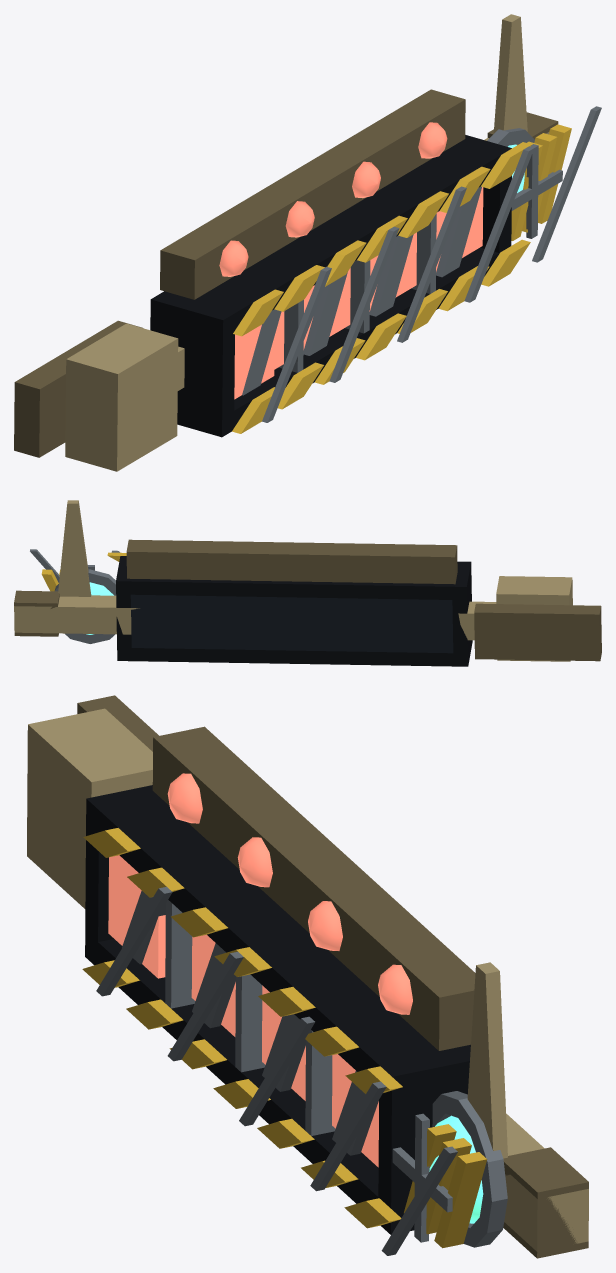
The model's file is mast.glb.
3 views of the same model, one above another, from view 1: azimuth 30°, elevation 25°; view 2: azimuth 150°, elevation 25°; view 3: azimuth 270°, elevation 25° (orthographic). The views are drawn at different scales.
Visible parts, largest first — view 1: log_mast_lampbar, log_mast_collar, log_mast_bezel_t, log_mast_bezel_l, log_mast_foot, log_mast_bezel_b, log_mast_vane, log_mast_bezel_r, log_mast_scrim_3, log_mast_scrim_4, log_mast_scrim_0, log_mast_scrim_2 (+36 smaller); view 2: log_mast_bore, log_mast_lampbar, log_mast_foot, log_mast_bezel_t, log_mast_bezel_b, log_mast_rod, log_mast_collar, log_mast_vane, log_mast_bezel_l, log_mast_bezel_r, log_mast_knob, log_mast_capring (+2 smaller); view 3: log_mast_lampbar, log_mast_bezel_t, log_mast_collar, log_mast_bezel_b, log_mast_bezel_r, log_mast_vane, log_mast_knob, log_mast_capring, log_mast_rod, log_mast_bezel_l, log_mast_sweep, log_mast_capstripe_2 (+37 smaller).
Part boxes in pixels (bbox=[...]): log_mast_lampbar: bbox=[160, 89, 465, 299]; log_mast_collar: bbox=[65, 323, 178, 471]; log_mast_bezel_t: bbox=[152, 135, 508, 334]; log_mast_bezel_l: bbox=[150, 292, 234, 437]; log_mast_foot: bbox=[14, 320, 142, 457]; log_mast_bezel_b: bbox=[177, 247, 499, 436]; log_mast_vane: bbox=[493, 14, 527, 145]; log_mast_bezel_r: bbox=[458, 135, 511, 253]; log_mast_scrim_3: bbox=[464, 146, 534, 302]; log_mast_scrim_4: bbox=[532, 106, 601, 262]; log_mast_scrim_0: bbox=[262, 266, 331, 422]; log_mast_scrim_2: bbox=[397, 186, 466, 342]; log_mast_bore: bbox=[130, 594, 453, 653]; log_mast_lampbar: bbox=[126, 539, 457, 584]; log_mast_foot: bbox=[474, 603, 601, 661]; log_mast_bezel_t: bbox=[116, 557, 470, 600]; log_mast_bezel_b: bbox=[117, 648, 468, 666]; log_mast_rod: bbox=[14, 595, 496, 640]; log_mast_collar: bbox=[496, 576, 572, 661]; log_mast_vane: bbox=[58, 500, 91, 596]; log_mast_bezel_l: bbox=[452, 561, 472, 666]; log_mast_bezel_r: bbox=[116, 556, 131, 660]; log_mast_knob: bbox=[14, 590, 59, 636]; log_mast_capring: bbox=[54, 569, 116, 643]; log_mast_lampbar: bbox=[152, 726, 475, 1050]; log_mast_bezel_t: bbox=[86, 785, 470, 1102]; log_mast_collar: bbox=[27, 708, 152, 908]; log_mast_bezel_b: bbox=[85, 939, 414, 1234]; log_mast_bezel_r: bbox=[378, 1046, 470, 1234]; log_mast_vane: bbox=[467, 962, 507, 1158]; log_mast_knob: bbox=[503, 1147, 588, 1258]; log_mast_capring: bbox=[432, 1091, 507, 1247]; log_mast_rod: bbox=[504, 1113, 588, 1251]; log_mast_bezel_l: bbox=[85, 785, 159, 956]; log_mast_sweep: bbox=[108, 855, 165, 978]; log_mast_capstripe_2: bbox=[434, 1152, 487, 1248].
Bounding box in the file's own units: 0.1454 × 0.0417 × 0.0728.
